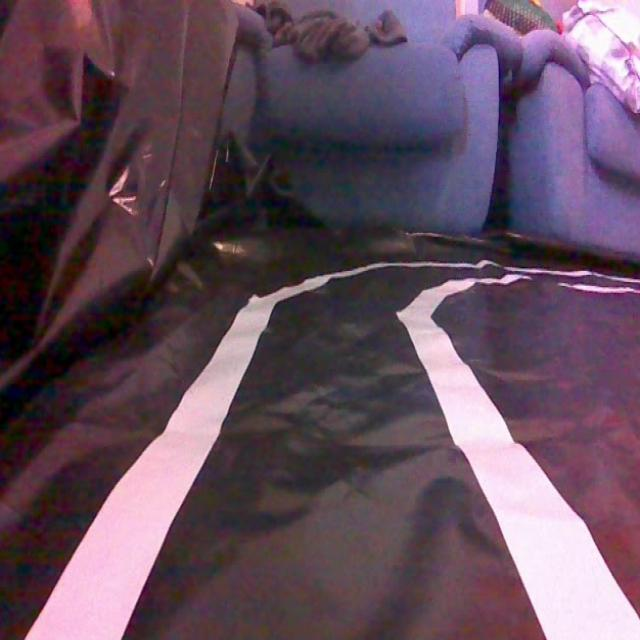LineaCarril: (24, 274, 332, 640), (465, 443, 640, 640), (397, 276, 517, 447)
